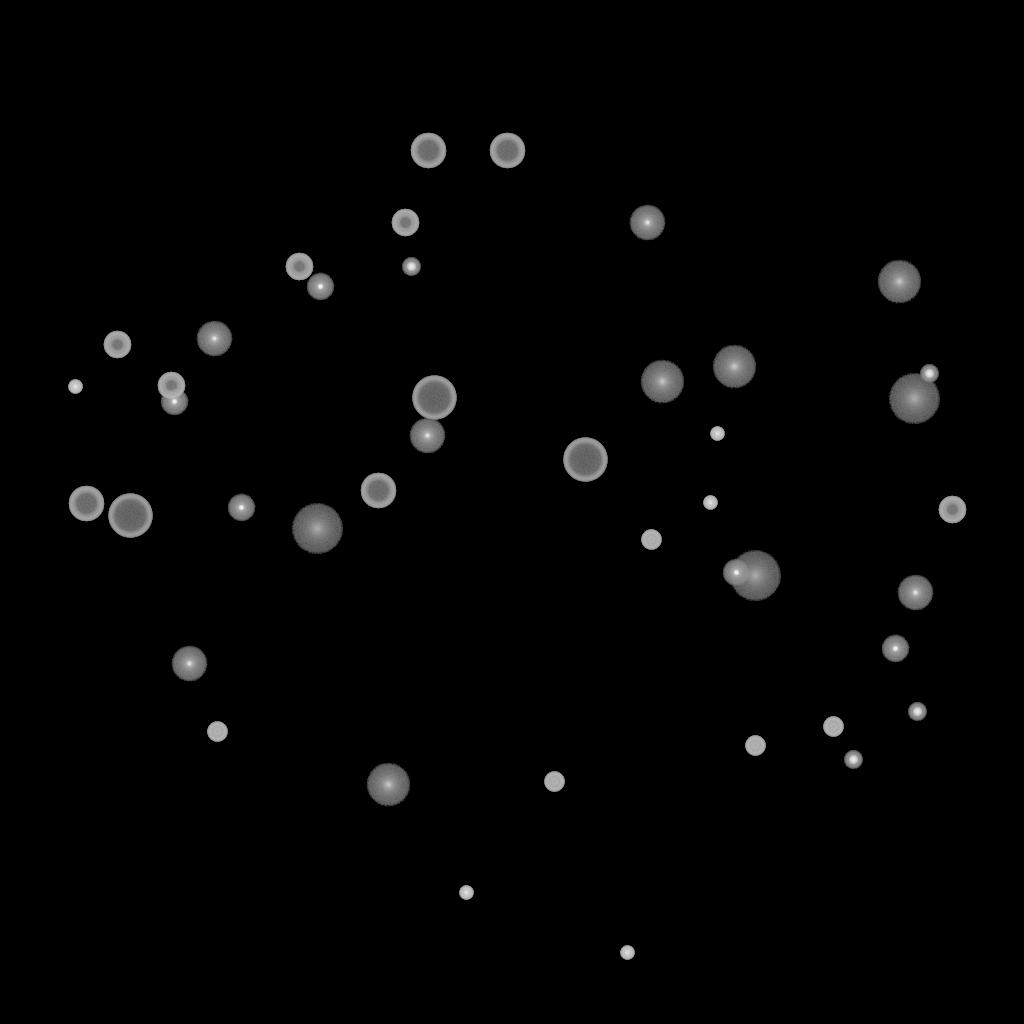depth:-10: (722, 559, 750, 587), (160, 388, 188, 416), (306, 273, 334, 301), (881, 635, 909, 663), (227, 494, 255, 522)
depth:-20: (402, 258, 420, 276), (920, 365, 938, 383), (908, 703, 926, 721), (844, 751, 862, 769)
depth:-30: (68, 380, 82, 394), (703, 496, 717, 510), (620, 946, 634, 960), (459, 886, 473, 900), (710, 427, 724, 441)
depth:-40: (745, 736, 765, 756), (823, 717, 843, 737), (207, 722, 227, 742), (641, 530, 661, 550), (544, 772, 564, 792)
depth:-50: (391, 209, 419, 237), (103, 331, 131, 359), (157, 372, 185, 400), (938, 496, 966, 524), (285, 253, 313, 281)
depth:-60: (489, 133, 525, 169), (360, 473, 396, 509), (410, 133, 446, 169), (68, 486, 104, 522)
depth:-70: (563, 438, 607, 482), (412, 376, 456, 420), (108, 494, 152, 538)
depth:0: (171, 646, 207, 682), (196, 321, 232, 357), (629, 205, 665, 241), (409, 418, 445, 454), (897, 575, 933, 611)
depth:10: (712, 345, 756, 389), (366, 763, 410, 807), (877, 260, 921, 304), (640, 360, 684, 404)
depth:20: (888, 374, 940, 424), (729, 551, 781, 601), (291, 504, 343, 554)
